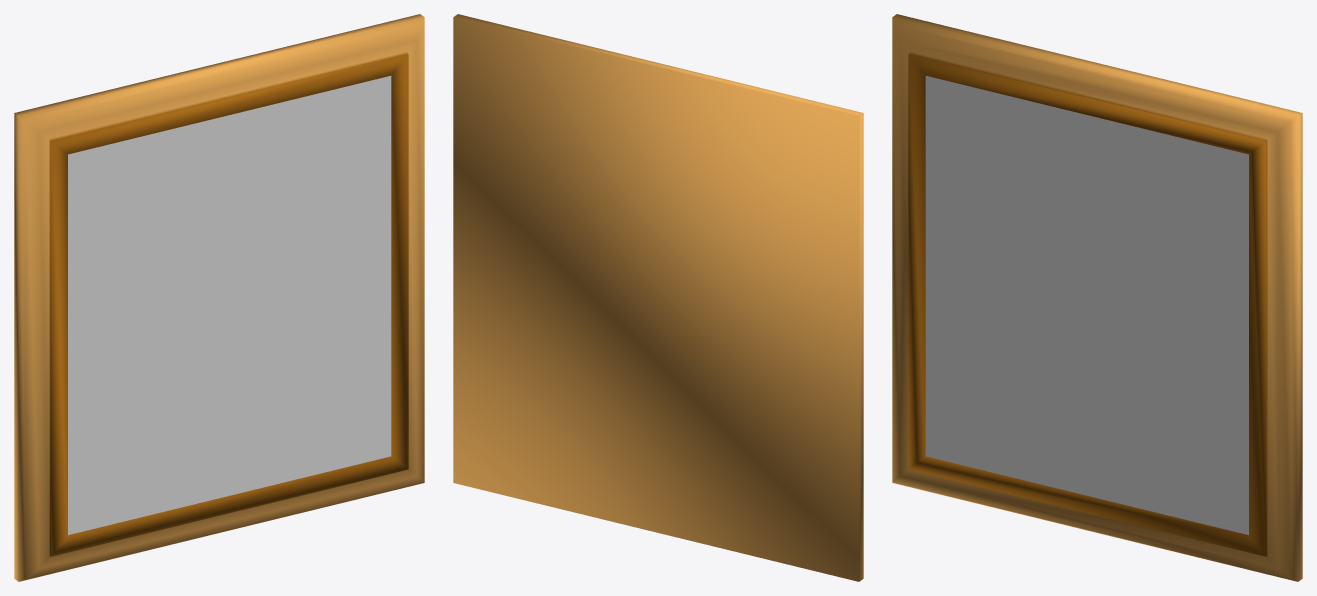
Rendered from Painting06.fbx.
3 views of the same model, side by side, from view 1: azimuth 30°, elevation 25°; view 2: azimuth 150°, elevation 25°; view 3: azimuth 330°, elevation 25° (orthographic).
Parts seen in each view (by area): view 1: Painting06_Glass, Painting06; view 2: Painting06; view 3: Painting06_Glass, Painting06.
Part boxes in pixels (x1=…): Painting06_Glass: x1=68, y1=76, x2=391, y2=534; Painting06: x1=14, y1=14, x2=424, y2=581; Painting06: x1=453, y1=14, x2=863, y2=581; Painting06_Glass: x1=925, y1=76, x2=1248, y2=534; Painting06: x1=892, y1=14, x2=1302, y2=581.
Bounding box in the file's own units: 1 × 1.1 × 0.0541.
